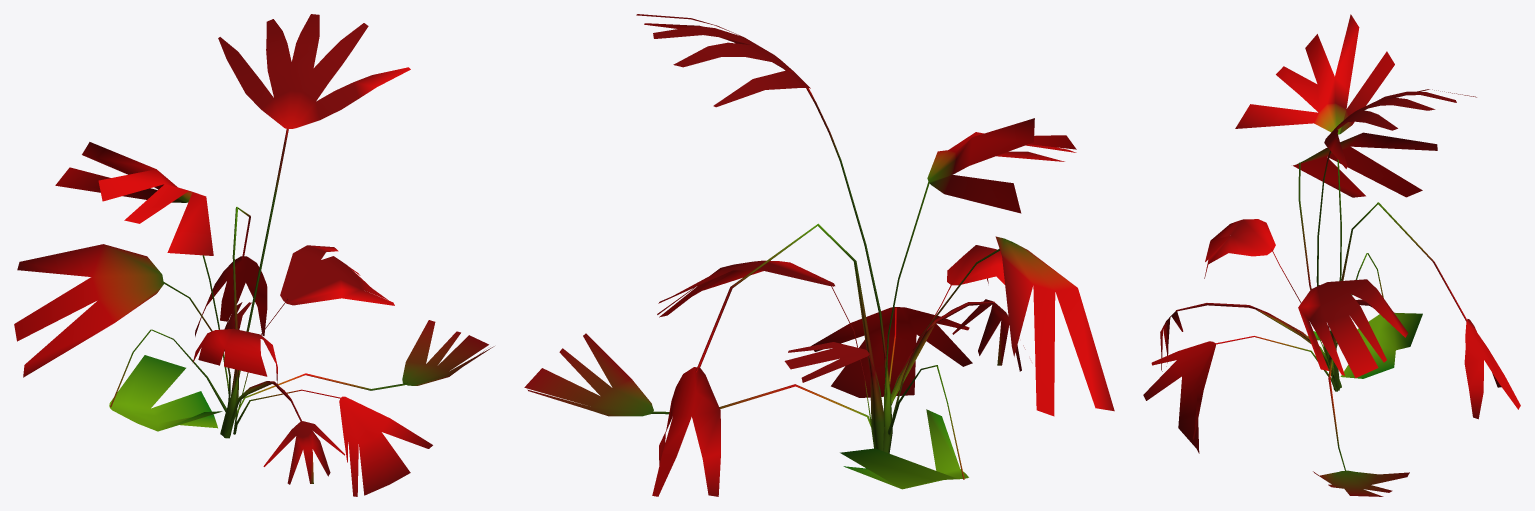
Rendered from Var3_LOD2.fbx.
The picture shows the model from 3 angles, left to right: view 1: azimuth 30°, elevation 25°; view 2: azimuth 150°, elevation 25°; view 3: azimuth 270°, elevation 25°; orthographic projection. The views are drawn at different scales.
Visible parts, largest first — view 1: _5a8e_Var3_LOD2; view 2: _5a8e_Var3_LOD2; view 3: _5a8e_Var3_LOD2.
Part boxes in pixels (x1,y1,x2,y2): _5a8e_Var3_LOD2: (14, 14, 494, 496); _5a8e_Var3_LOD2: (524, 14, 1114, 496); _5a8e_Var3_LOD2: (1143, 14, 1520, 496).
Bounding box in the file's own units: 179 × 136 × 129.
